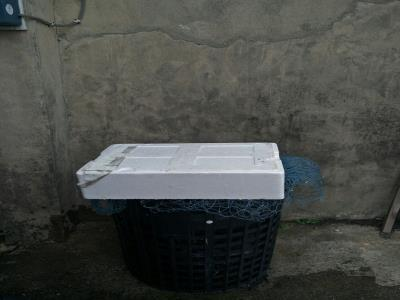styrofoam: (70, 139, 287, 203)
